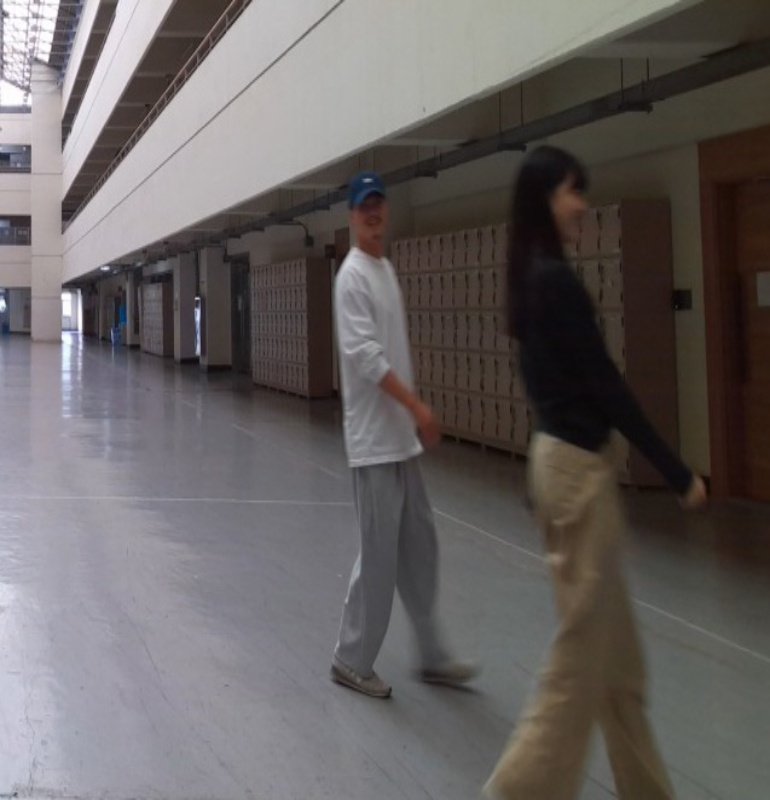person: (319, 167, 484, 701)
